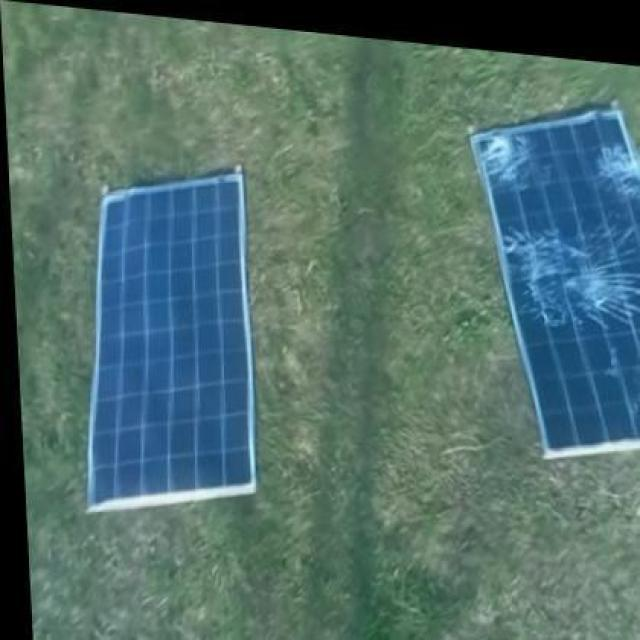cracked: (474, 104, 640, 458)
